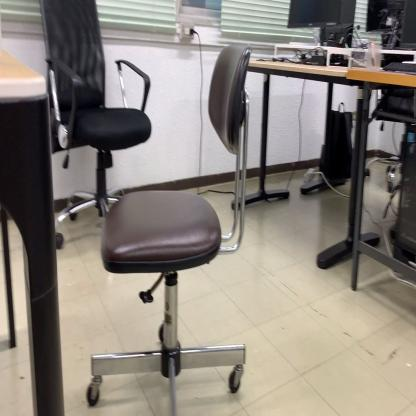chair: (86, 41, 253, 416), (36, 0, 155, 249)
